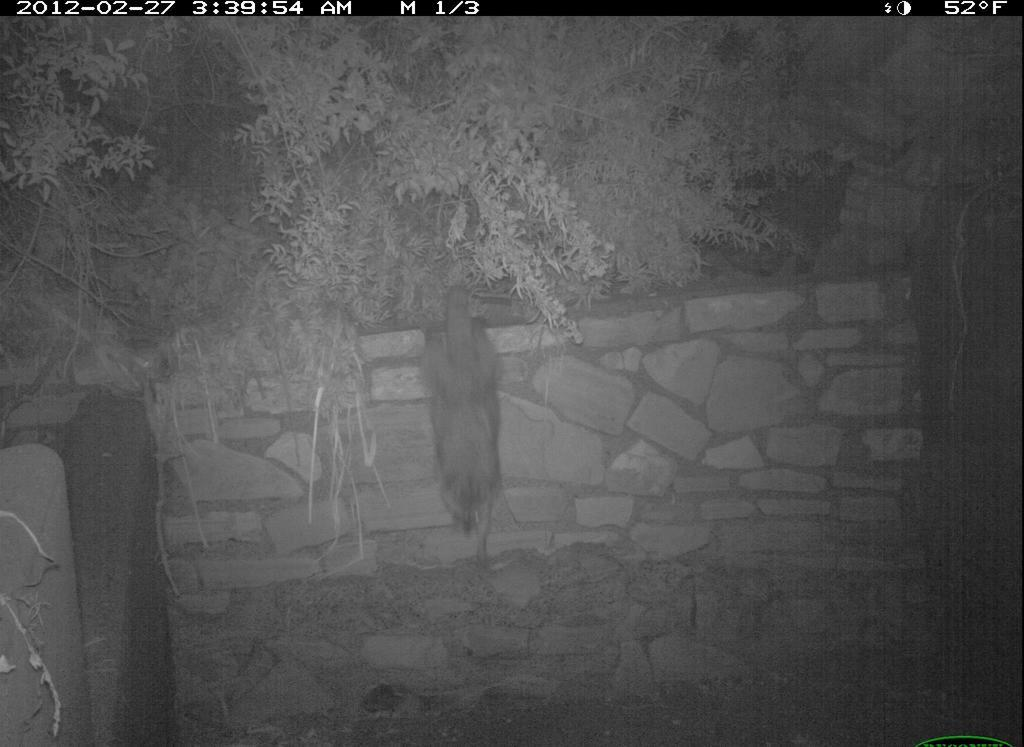raccoon: (415, 291, 532, 566)
